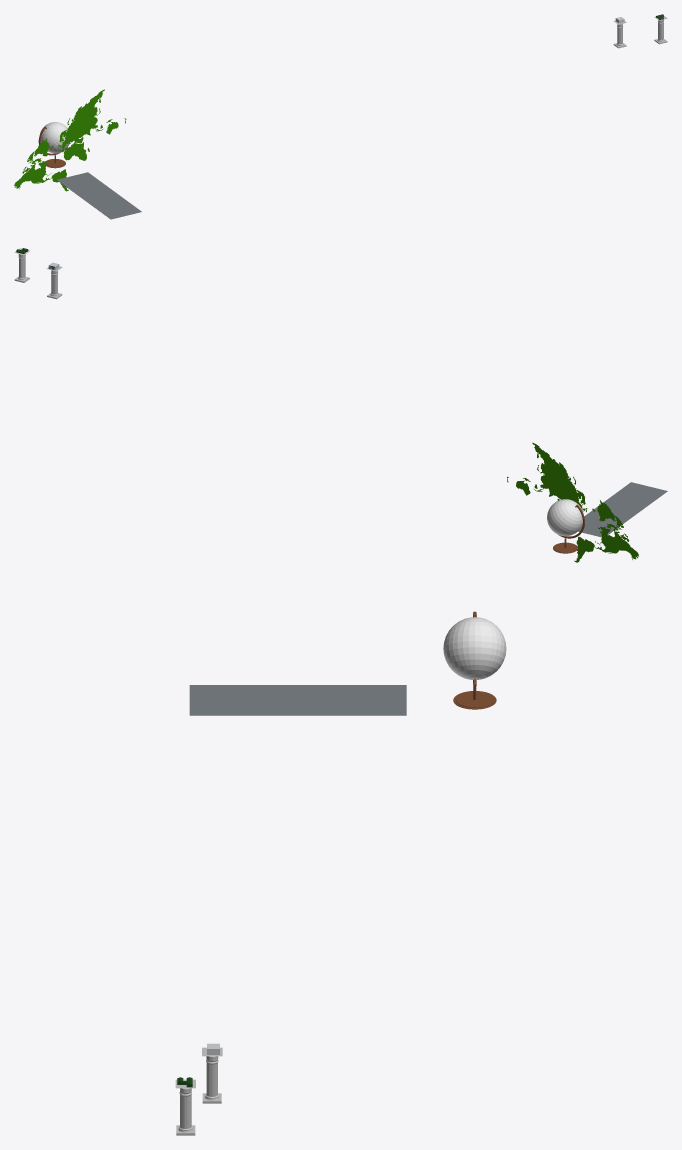
File: playground.glb
The picture shows the model from 3 angles, top to bottom: view 1: azimuth 30°, elevation 25°; view 2: azimuth 150°, elevation 25°; view 3: azimuth 270°, elevation 25°; orthographic projection. The views are drawn at different scales.
Visible parts, largest first — view 1: Map, Path, Sphere Wire; view 2: Map, Path, Sphere Wire; view 3: Path, Sphere Wire.
Part boxes in pixels (x1=…): Map: x1=14, y1=89, x2=126, y2=191; Path: x1=57, y1=172, x2=141, y2=219; Sphere Wire: x1=40, y1=122, x2=70, y2=153; Map: x1=507, y1=442, x2=638, y2=562; Path: x1=578, y1=482, x2=667, y2=537; Sphere Wire: x1=547, y1=499, x2=583, y2=536; Path: x1=189, y1=685, x2=406, y2=715; Sphere Wire: x1=443, y1=617, x2=506, y2=679.
Size of what is drawn, in the model's own units: 189 by 28.38 by 45.81.
